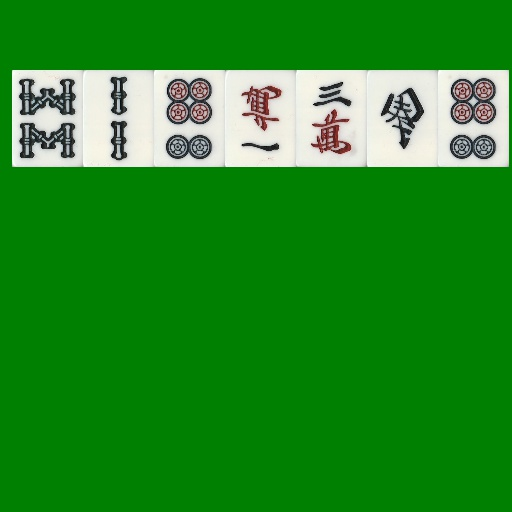1m: (225, 70, 296, 167)
2s: (83, 70, 154, 167)
3m: (296, 70, 367, 167)
6p: (154, 70, 225, 167), (438, 70, 509, 167)
8s: (12, 70, 83, 167)
south: (367, 70, 438, 167)
